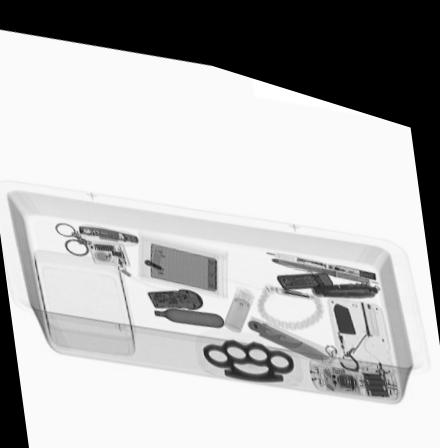Knife: (245, 299, 337, 340), (312, 260, 380, 277)
